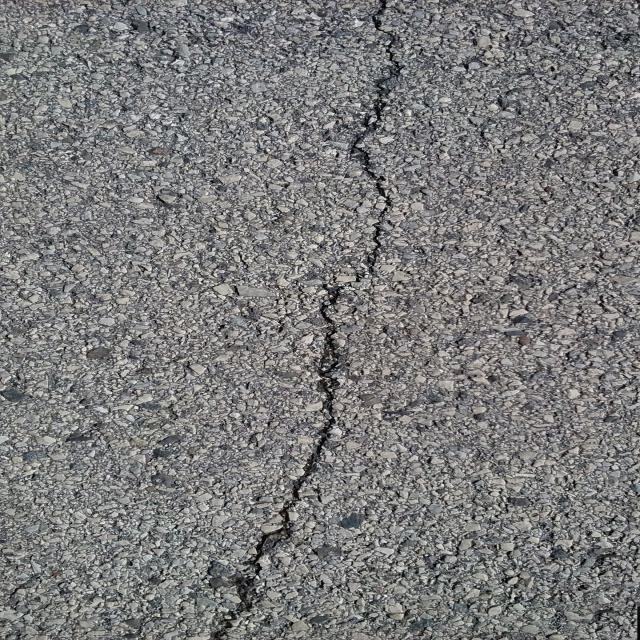Longitudial: (134, 0, 438, 640)
